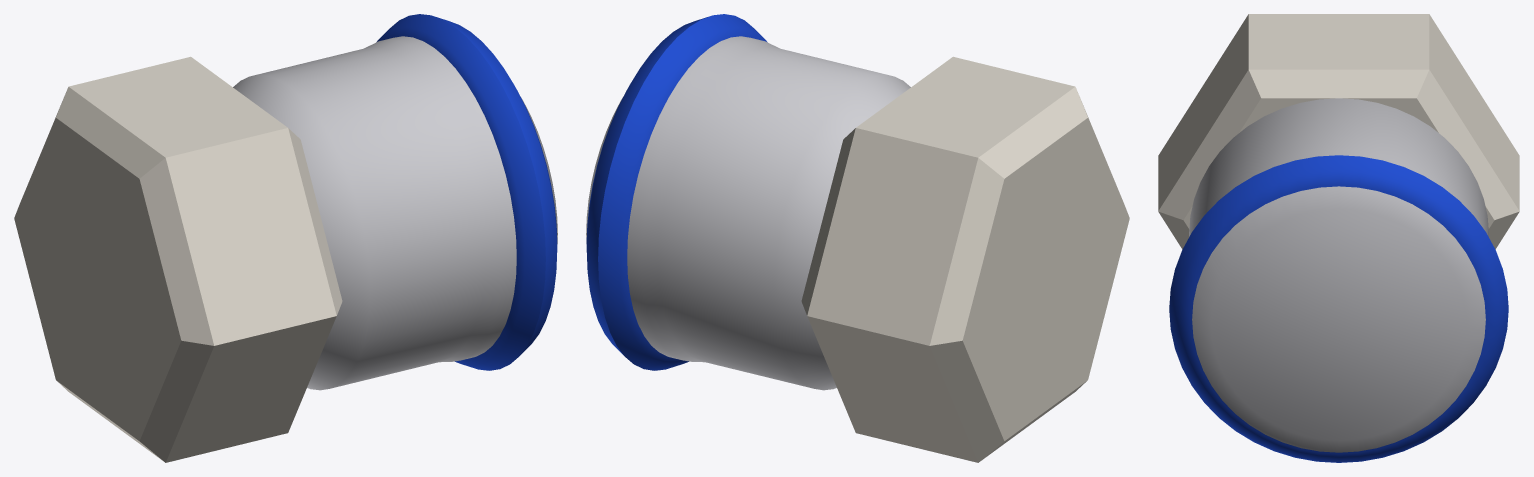
Rendered from fitting_adp_28x1_F.glb.
3 views of the same model, side by side, from view 1: azimuth 30°, elevation 25°; view 2: azimuth 150°, elevation 25°; view 3: azimuth 270°, elevation 25° (orthographic). The views are drawn at different scales.
Visible parts, largest first — view 1: шестигранник переходника, раструб, кольцо пресс; view 2: шестигранник переходника, раструб, кольцо пресс; view 3: раструб, шестигранник переходника, кольцо пресс.
Boxes of the visible parts, x1=… form: шестигранник переходника: x1=14, y1=56, x2=342, y2=462; раструб: x1=233, y1=36, x2=557, y2=390; кольцо пресс: x1=376, y1=14, x2=557, y2=370; шестигранник переходника: x1=801, y1=56, x2=1129, y2=462; раструб: x1=586, y1=36, x2=910, y2=390; кольцо пресс: x1=586, y1=14, x2=767, y2=370; раструб: x1=1189, y1=98, x2=1488, y2=452; шестигранник переходника: x1=1158, y1=14, x2=1519, y2=249; кольцо пресс: x1=1169, y1=155, x2=1508, y2=462.
Bounding box in the file's own units: 0.051 × 0.0412 × 0.0439.
